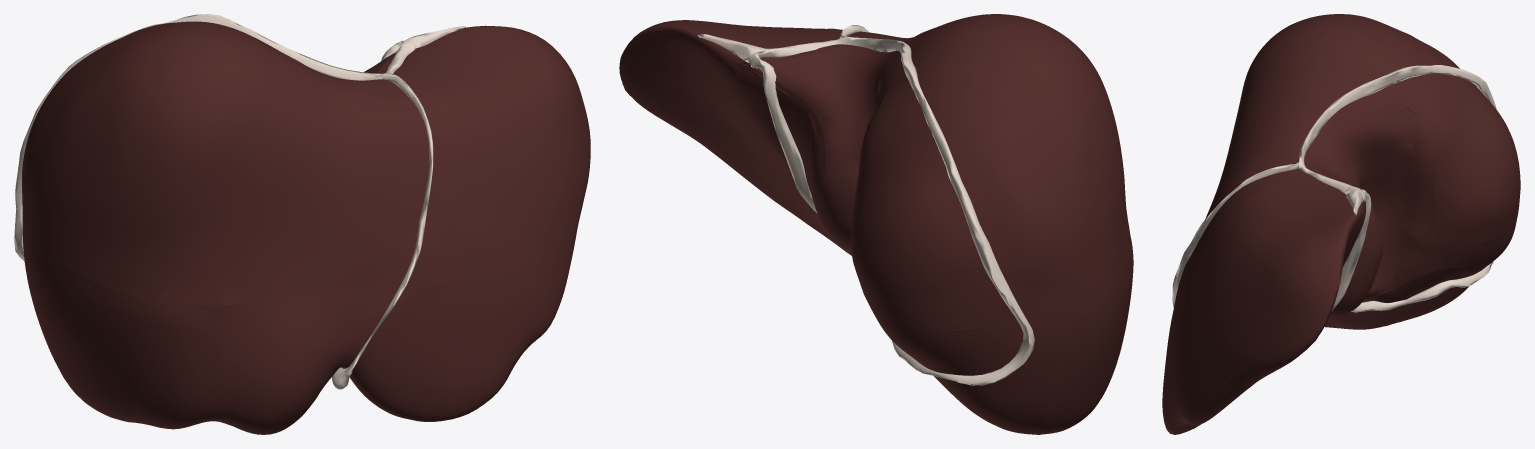
Rendered from vh_f_liver-80.glb.
The picture shows the model from 3 angles, left to right: view 1: azimuth 30°, elevation 25°; view 2: azimuth 150°, elevation 25°; view 3: azimuth 270°, elevation 25°; orthographic projection. The views are drawn at different scales.
Visible parts, largest first — view 1: VH_F_capsule_of_the_liver, VH_F_left_superomedial_segment1, VH_F_left_inferomedial_segment, VH_F_right_anterosuperior_segment, VH_F_right_anteroinferior_segment, VH_F_coronary_ligament_of_liver, VH_F_left_superomedial_segment, VH_F_falciform_ligament, VH_F_left_anterolateral_segment; view 2: VH_F_capsule_of_the_liver, VH_F_bare_area_of_liver, VH_F_left_superomedial_segment, VH_F_coronary_ligament_of_liver, VH_F_diaphragmatic_surface_of_liver, VH_F_caudate_lobe, VH_F_right_posterosuperior_segment, VH_F_ligamentum_venosum, VH_F_gastric_impression_of_liver, VH_F_left_anterolateral_segment, VH_F_right_posteroinferior_segment, VH_F_right_anterosuperior_segment (+3 smaller); view 3: VH_F_capsule_of_the_liver, VH_F_bare_area_of_liver, VH_F_caudate_lobe, VH_F_coronary_ligament_of_liver, VH_F_left_superomedial_segment1, VH_F_right_posterosuperior_segment, VH_F_diaphragmatic_surface_of_liver, VH_F_left_superomedial_segment, VH_F_falciform_ligament, VH_F_ligamentum_venosum, VH_F_right_posteroinferior_segment, VH_F_suprarenal_impression_of_liver (+2 smaller).
Part boxes in pixels (x1=…): VH_F_capsule_of_the_liver: x1=22, y1=21, x2=590, y2=434; VH_F_left_superomedial_segment1: x1=222, y1=55, x2=433, y2=305; VH_F_left_inferomedial_segment: x1=209, y1=284, x2=398, y2=433; VH_F_right_anterosuperior_segment: x1=38, y1=23, x2=278, y2=305; VH_F_right_anteroinferior_segment: x1=39, y1=264, x2=223, y2=426; VH_F_coronary_ligament_of_liver: x1=14, y1=14, x2=413, y2=261; VH_F_left_superomedial_segment: x1=380, y1=29, x2=581, y2=284; VH_F_falciform_ligament: x1=344, y1=73, x2=433, y2=375; VH_F_left_anterolateral_segment: x1=342, y1=226, x2=577, y2=419; VH_F_capsule_of_the_liver: x1=619, y1=14, x2=1133, y2=434; VH_F_bare_area_of_liver: x1=749, y1=47, x2=1023, y2=375; VH_F_left_superomedial_segment: x1=622, y1=22, x2=840, y2=179; VH_F_coronary_ligament_of_liver: x1=767, y1=36, x2=1034, y2=385; VH_F_diaphragmatic_surface_of_liver: x1=619, y1=30, x2=996, y2=425; VH_F_caudate_lobe: x1=778, y1=47, x2=899, y2=250; VH_F_right_posterosuperior_segment: x1=851, y1=61, x2=1101, y2=331; VH_F_ligamentum_venosum: x1=751, y1=53, x2=817, y2=213; VH_F_gastric_impression_of_liver: x1=668, y1=71, x2=851, y2=255; VH_F_left_anterolateral_segment: x1=716, y1=151, x2=832, y2=238; VH_F_right_posteroinferior_segment: x1=866, y1=299, x2=1101, y2=434; VH_F_right_anterosuperior_segment: x1=897, y1=30, x2=1132, y2=282; VH_F_capsule_of_the_liver: x1=1162, y1=14, x2=1472, y2=434; VH_F_bare_area_of_liver: x1=1306, y1=74, x2=1520, y2=298; VH_F_caudate_lobe: x1=1305, y1=98, x2=1439, y2=315; VH_F_coronary_ligament_of_liver: x1=1298, y1=65, x2=1496, y2=312; VH_F_left_superomedial_segment1: x1=1199, y1=64, x2=1323, y2=240; VH_F_right_posterosuperior_segment: x1=1393, y1=31, x2=1518, y2=244; VH_F_diaphragmatic_surface_of_liver: x1=1170, y1=201, x2=1494, y2=433; VH_F_left_superomedial_segment: x1=1176, y1=172, x2=1365, y2=381; VH_F_falciform_ligament: x1=1172, y1=162, x2=1298, y2=307; VH_F_ligamentum_venosum: x1=1331, y1=189, x2=1371, y2=311; VH_F_right_posteroinferior_segment: x1=1386, y1=226, x2=1513, y2=325; VH_F_suprarenal_impression_of_liver: x1=1399, y1=267, x2=1471, y2=289.
Bounding box in the file's own units: 0.2471 × 0.17 × 0.1663.
